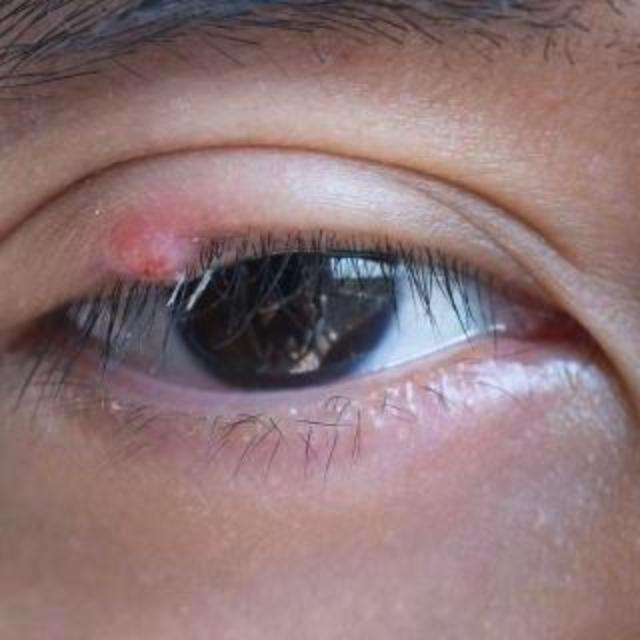Stye: (85, 182, 255, 344)
